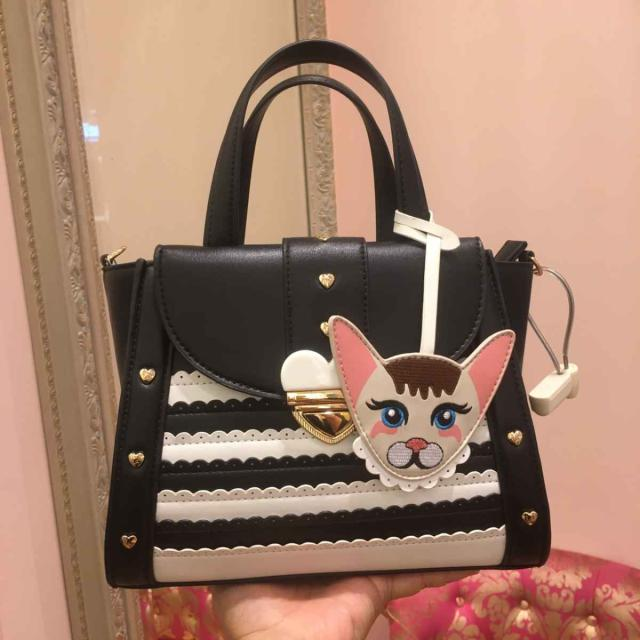handbag: (86, 201, 546, 604)
